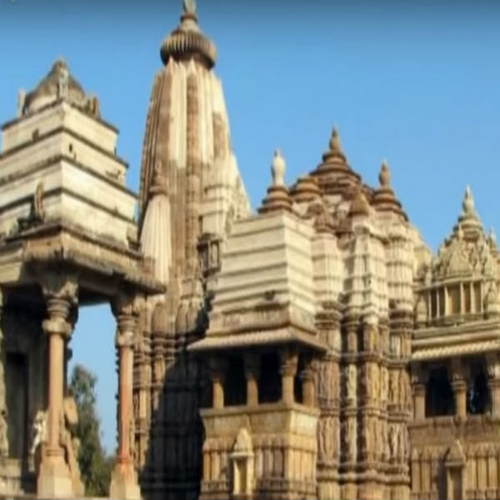Temple: (7, 16, 490, 471)
